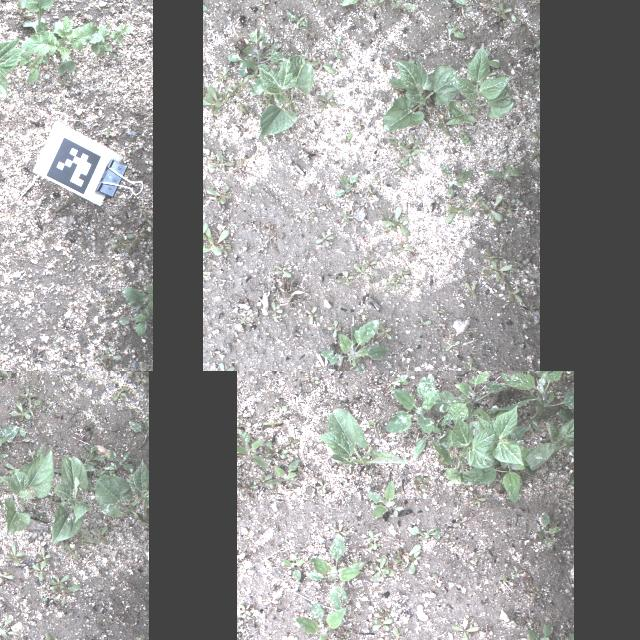crop: (431, 404, 523, 484), (314, 407, 408, 481), (382, 54, 460, 132), (487, 371, 573, 440), (443, 43, 512, 125), (251, 54, 313, 138), (4, 445, 54, 531), (52, 454, 94, 542), (94, 456, 146, 524), (525, 418, 573, 470), (0, 37, 22, 99), (569, 469, 573, 483)
weed: (18, 0, 138, 83), (456, 438, 536, 502), (304, 534, 366, 612), (434, 371, 508, 424), (319, 319, 388, 371), (386, 372, 438, 433), (117, 275, 153, 335), (240, 25, 286, 71), (295, 600, 347, 640), (371, 544, 421, 580), (412, 414, 450, 458), (368, 480, 406, 520), (236, 430, 268, 468), (440, 164, 472, 198), (476, 193, 509, 225), (462, 46, 502, 70), (536, 512, 562, 548), (379, 206, 409, 236), (266, 460, 300, 484), (202, 227, 230, 256), (82, 438, 104, 474), (111, 230, 143, 254), (440, 195, 466, 223), (484, 164, 524, 182), (225, 51, 252, 77), (205, 184, 232, 208), (483, 260, 511, 282), (106, 449, 134, 471), (451, 618, 479, 640), (306, 54, 336, 74), (0, 422, 17, 457), (49, 572, 82, 590), (282, 552, 302, 580), (334, 174, 358, 196), (445, 20, 465, 46), (527, 623, 556, 640), (208, 154, 235, 172), (10, 400, 32, 422), (316, 88, 336, 112), (206, 84, 222, 114), (372, 607, 392, 631), (19, 386, 41, 406), (400, 144, 420, 164), (492, 1, 512, 21), (408, 526, 440, 538), (377, 273, 398, 291), (100, 344, 120, 362), (506, 282, 524, 302), (351, 262, 371, 280), (60, 540, 78, 560), (6, 544, 24, 564), (92, 524, 110, 544), (285, 12, 307, 28), (383, 0, 417, 10), (32, 561, 49, 581), (208, 148, 222, 172), (388, 78, 416, 90), (364, 417, 380, 438), (266, 301, 282, 321), (272, 262, 292, 278), (314, 231, 334, 247), (392, 266, 412, 282), (386, 136, 406, 152), (202, 94, 222, 110), (376, 322, 392, 341), (0, 615, 12, 640), (335, 270, 353, 286), (448, 205, 472, 217), (524, 38, 540, 56), (127, 419, 147, 433), (366, 530, 380, 550), (264, 440, 278, 460), (392, 158, 408, 175), (223, 82, 240, 98), (392, 374, 408, 391), (386, 627, 406, 640), (232, 74, 248, 90), (36, 546, 52, 562), (258, 473, 274, 489), (304, 306, 318, 324), (413, 315, 431, 329), (464, 281, 478, 299), (392, 242, 413, 254), (510, 254, 524, 272), (366, 184, 380, 202), (407, 132, 421, 150), (79, 526, 93, 544), (331, 35, 341, 59), (467, 192, 483, 206), (214, 68, 230, 82), (20, 428, 34, 444), (470, 493, 486, 507), (140, 207, 153, 224), (436, 117, 448, 135), (463, 356, 477, 371), (213, 361, 234, 371), (0, 451, 14, 466), (406, 50, 419, 66), (0, 568, 13, 584), (36, 631, 59, 640), (272, 404, 292, 414), (238, 308, 252, 322), (414, 476, 428, 490), (314, 478, 328, 492), (370, 0, 385, 13), (361, 258, 377, 270), (246, 67, 262, 79), (481, 252, 499, 262), (404, 143, 422, 153), (510, 13, 520, 31), (300, 371, 318, 381), (444, 341, 460, 352), (498, 259, 506, 281), (114, 386, 126, 400), (530, 586, 542, 600), (431, 572, 443, 586), (0, 371, 18, 380), (460, 130, 470, 146), (529, 147, 539, 163), (262, 596, 278, 606), (262, 418, 282, 426), (284, 437, 298, 448), (330, 319, 338, 337), (431, 305, 443, 317), (300, 183, 312, 195), (557, 631, 573, 640), (502, 573, 514, 585), (238, 602, 250, 614), (341, 210, 352, 223), (482, 67, 496, 77), (452, 516, 466, 526), (246, 84, 258, 95), (506, 200, 514, 216), (32, 513, 48, 521), (237, 421, 246, 435), (364, 244, 374, 256), (494, 240, 506, 250), (371, 170, 381, 182), (380, 212, 392, 222), (54, 596, 66, 606), (388, 280, 402, 288), (384, 224, 398, 232), (238, 151, 246, 165), (332, 527, 346, 535), (264, 233, 274, 244), (378, 59, 389, 69), (202, 222, 208, 240), (352, 119, 364, 128), (257, 0, 269, 9), (356, 313, 366, 323), (306, 206, 316, 216), (340, 132, 350, 142), (530, 130, 540, 140), (526, 302, 538, 310), (289, 215, 301, 223), (236, 167, 244, 179), (292, 134, 300, 146), (512, 565, 520, 577), (218, 89, 228, 98), (524, 0, 539, 6), (0, 464, 3, 493), (202, 266, 208, 280), (416, 256, 426, 264), (323, 200, 333, 208), (208, 152, 218, 160), (255, 99, 265, 107), (224, 94, 232, 104), (394, 86, 404, 94), (469, 557, 477, 567), (262, 406, 272, 414), (280, 448, 288, 458), (409, 250, 418, 258), (264, 94, 270, 106), (441, 0, 450, 8), (222, 260, 230, 268), (321, 0, 329, 8), (511, 197, 521, 203), (434, 366, 445, 371), (313, 0, 323, 5), (44, 404, 51, 411), (236, 86, 242, 94), (534, 77, 540, 85), (467, 367, 478, 371), (222, 96, 228, 102), (284, 212, 292, 216), (214, 96, 222, 100), (44, 594, 48, 602), (139, 634, 144, 640), (252, 479, 255, 488), (527, 279, 531, 285), (202, 4, 206, 10), (125, 599, 129, 605), (298, 386, 300, 392)
